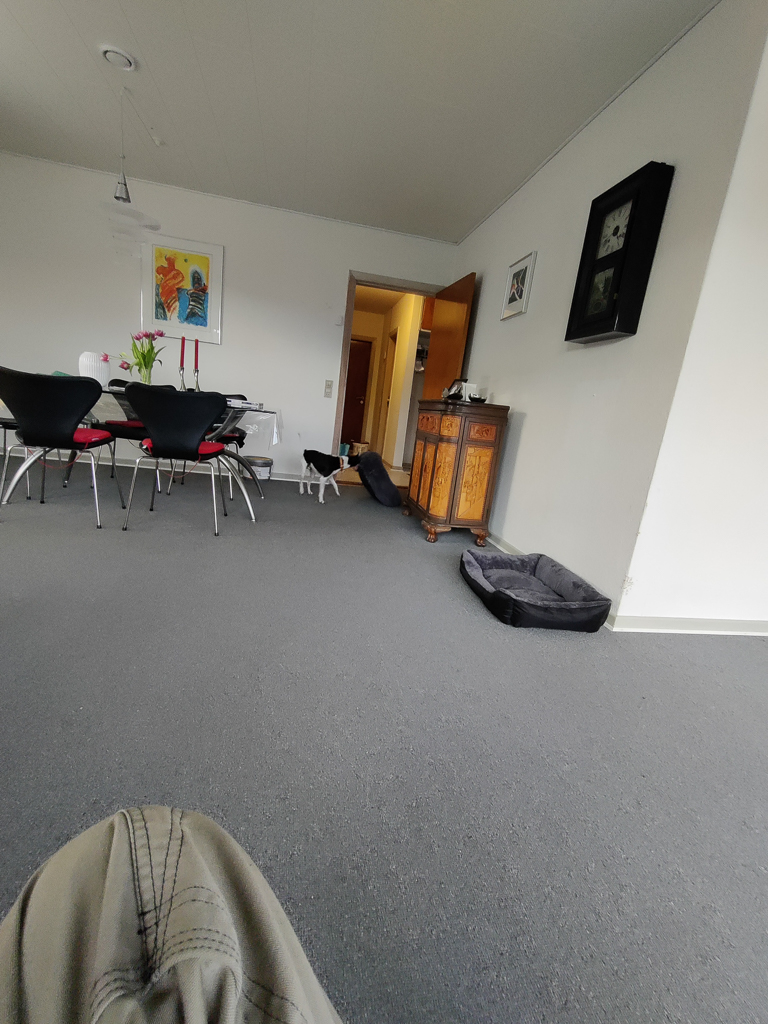Dog: (292, 429, 367, 510)
Humanoid: (0, 787, 365, 1024)
